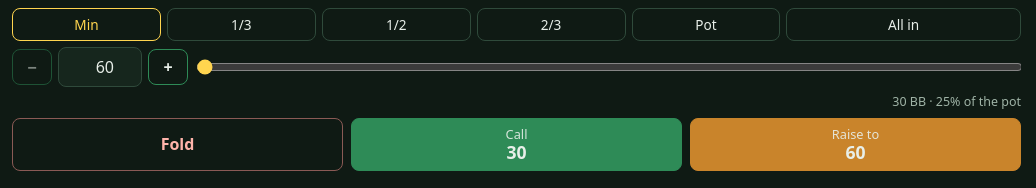
ActionBar › stacks the verb over the amount and keeps the sentence as the accessible name
expect the text with class "act-name" reads "Call": met, box [506,125,528,143]
expect the text with class "act-amount" reads "30": met, box [506,140,526,164]
Click the button "All in" at (904,24), box [786,8,1021,41]
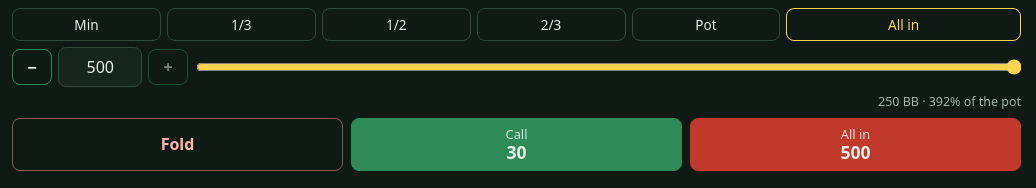
expect the text with class "act-name" reads "All in": met, box [841,125,870,143]
expect the text with class "act-amount" reads "500": met, box [840,140,871,164]
